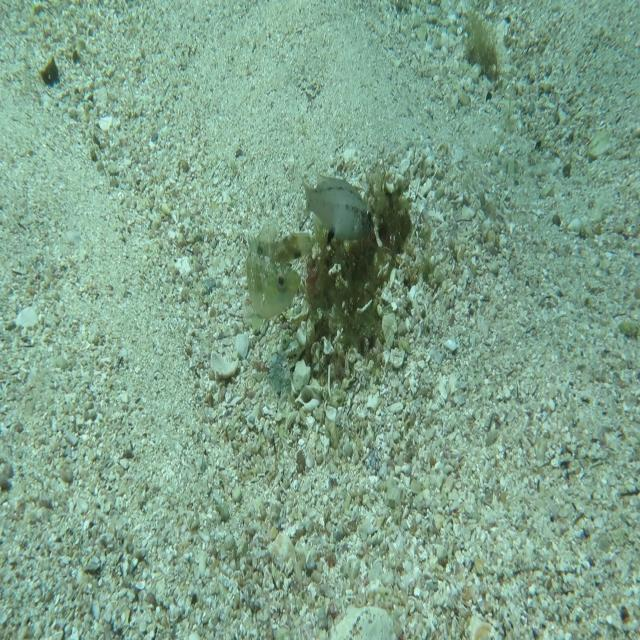BEND: (244, 222, 315, 319)
female: (298, 170, 373, 247)
nest: (294, 155, 418, 376)
